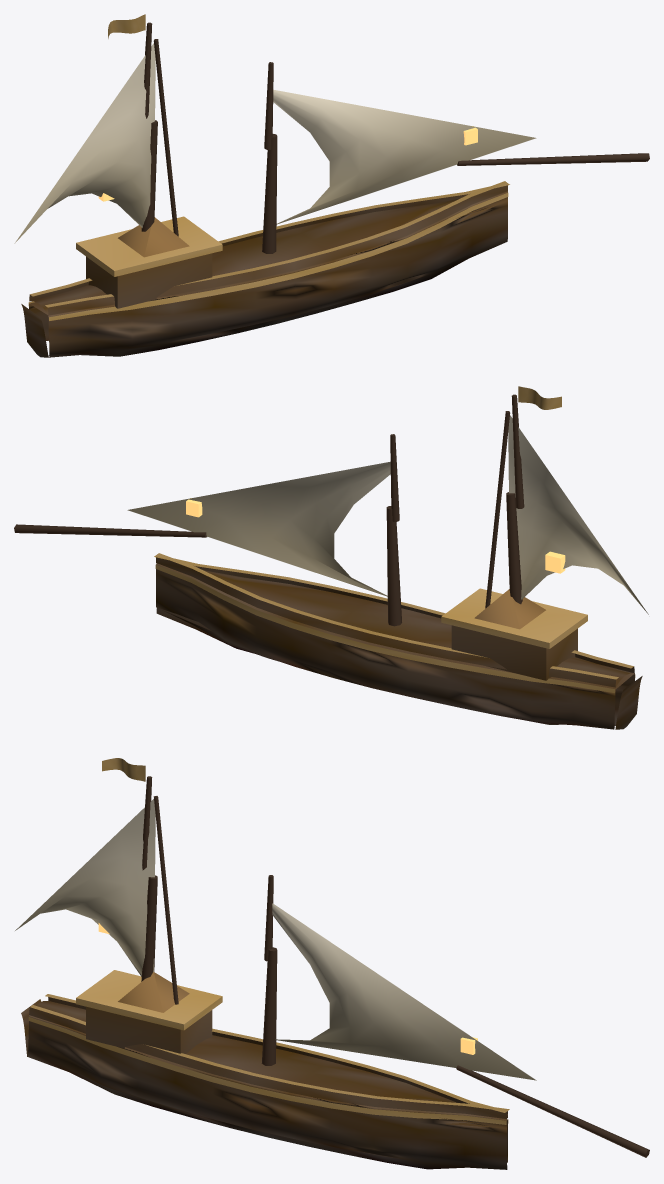
File: garden-hero-dhow.glb
3 views of the same model, one above another, from view 1: azimuth 30°, elevation 25°; view 2: azimuth 150°, elevation 25°; view 3: azimuth 330°, elevation 25° (orthographic).
Parts seen in each view (by area): view 1: wood-hull, sail-hull, trim-hull, spar-hull; view 2: wood-hull, sail-hull, spar-hull, trim-hull, glow-hull; view 3: wood-hull, sail-hull, trim-hull, spar-hull.
Boxes of the visible parts, left/top/right/bottom form: wood-hull: left=21, top=14, right=509, bottom=357; sail-hull: left=14, top=43, right=536, bottom=243; trim-hull: left=28, top=193, right=508, bottom=320; spar-hull: left=141, top=22, right=649, bottom=253; wood-hull: left=154, top=386, right=642, bottom=729; sail-hull: left=127, top=415, right=648, bottom=614; spar-hull: left=14, top=394, right=524, bottom=626; trim-hull: left=155, top=565, right=635, bottom=692; glow-hull: left=186, top=498, right=565, bottom=573; wood-hull: left=21, top=758, right=509, bottom=1169; sail-hull: left=15, top=799, right=536, bottom=1080; trim-hull: left=28, top=970, right=508, bottom=1124; spar-hull: left=141, top=776, right=649, bottom=1157.
Size of the model in its own units: 14.07 by 7.17 by 1.8.
